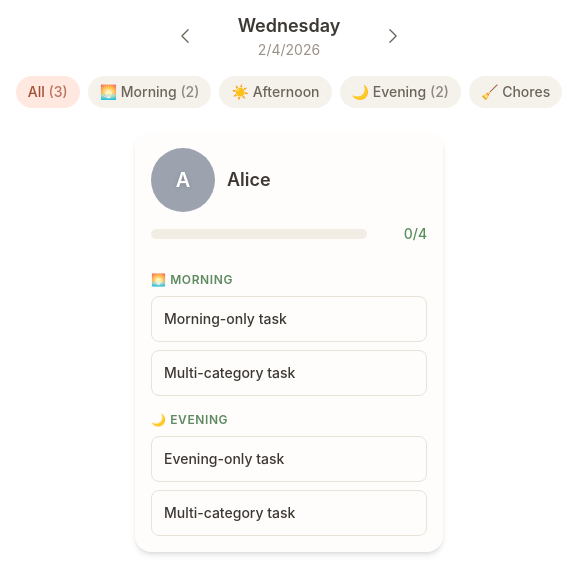
Test: ScheduleView › category filter › clicking Evening filter hides Morning-only items and shows multi-cat task once
What coordinates should you click on to do the following:
click the button "🌙 Evening (2)"
I would click on:
 (400, 92)
Its box is [340, 76, 461, 108].
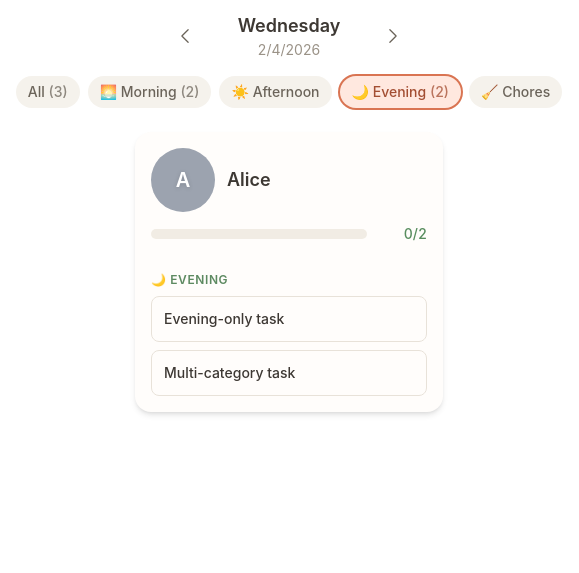
Check: the text "Evening-only task" is shown, box [164, 310, 284, 327]
Check: the button "Morning-only task" is gone
Check: the text "Multi-category task" is shown once, box [164, 364, 295, 381]
